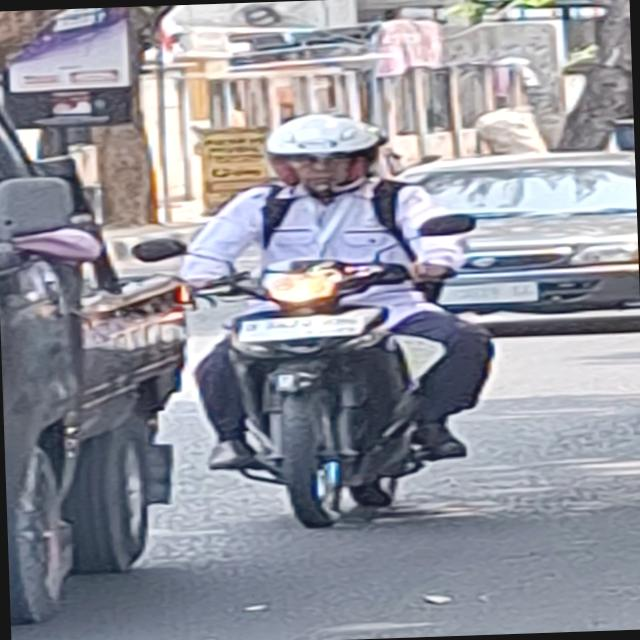WithHelmet: (171, 107, 498, 471)
